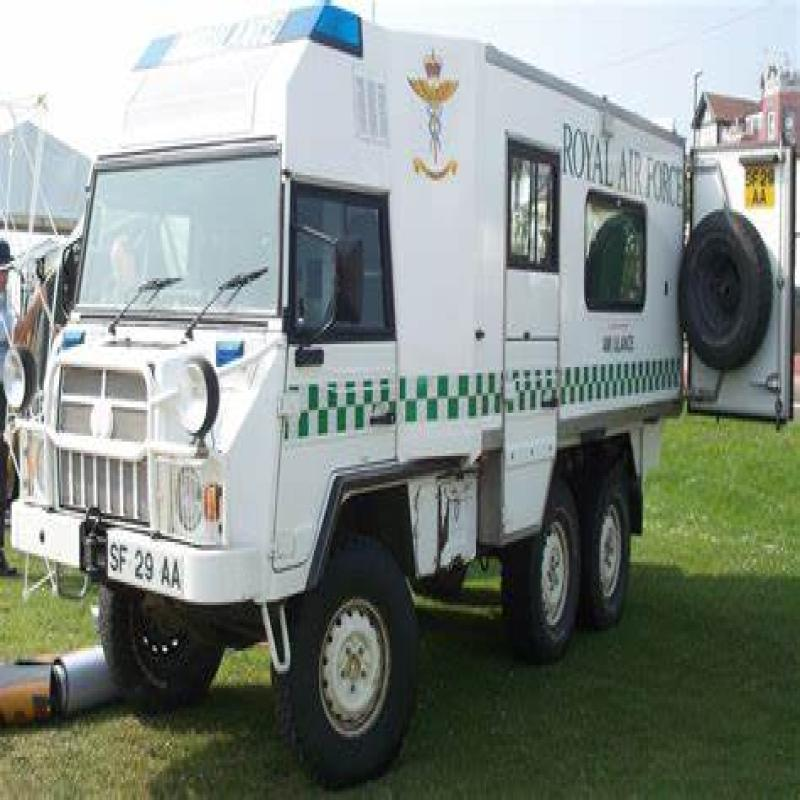AmbulanceSiren: (128, 0, 360, 75)
